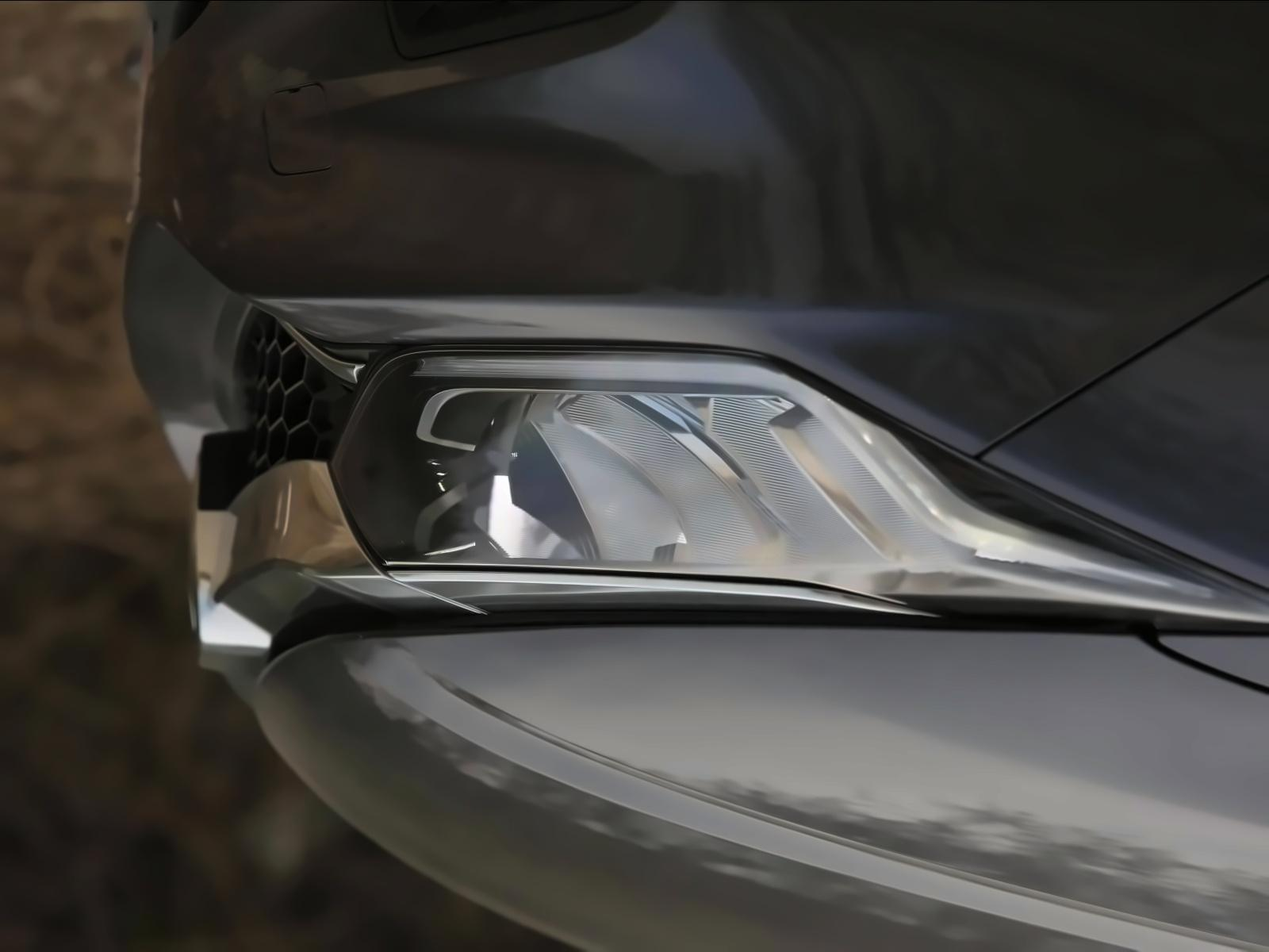Car hood: (201, 598, 1269, 952)
Front bumper: (111, 0, 1269, 482)
Headlight - -R-: (315, 323, 1269, 652)
